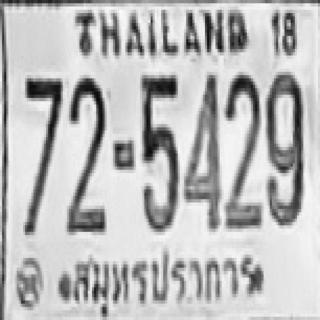N02: (66, 82, 106, 232), (67, 77, 105, 224), (225, 74, 260, 227)
N04: (182, 70, 220, 227)
N05: (140, 72, 178, 229)
N07: (22, 75, 62, 232)
N09: (264, 70, 303, 224)
P57: (72, 241, 257, 320)
